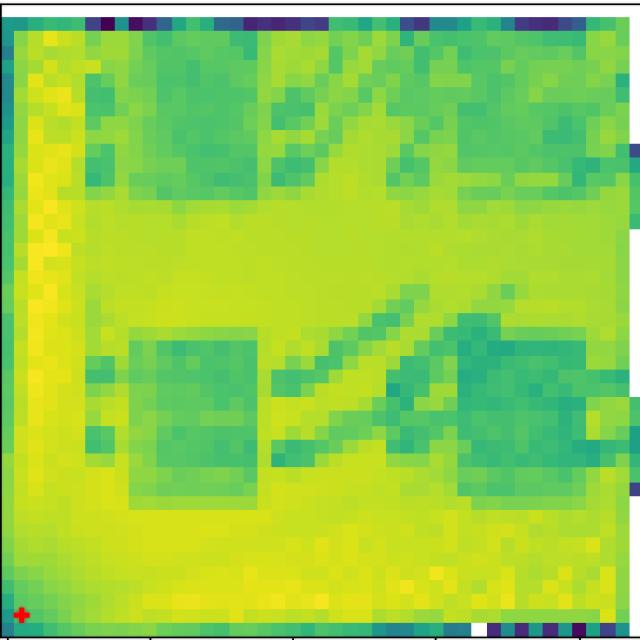Concrete: (98, 48, 260, 208)
Glass: (128, 332, 258, 505)
Metal: (452, 44, 601, 206)
Wood: (456, 333, 597, 501)
